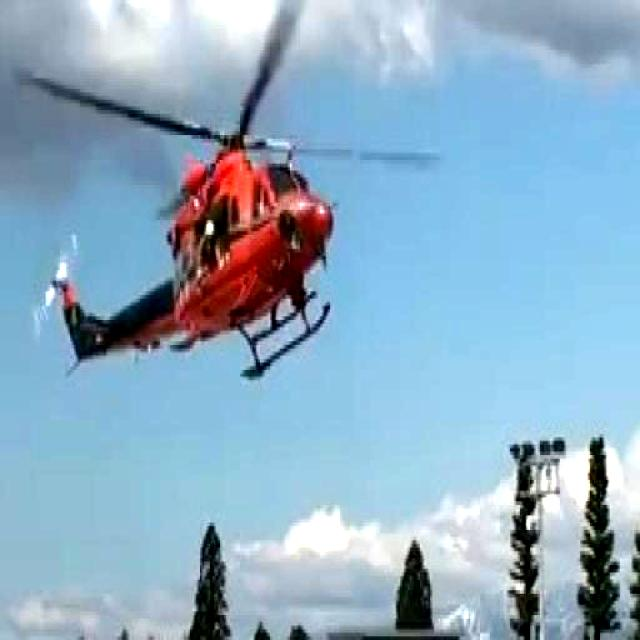drone: (42, 45, 364, 392)
